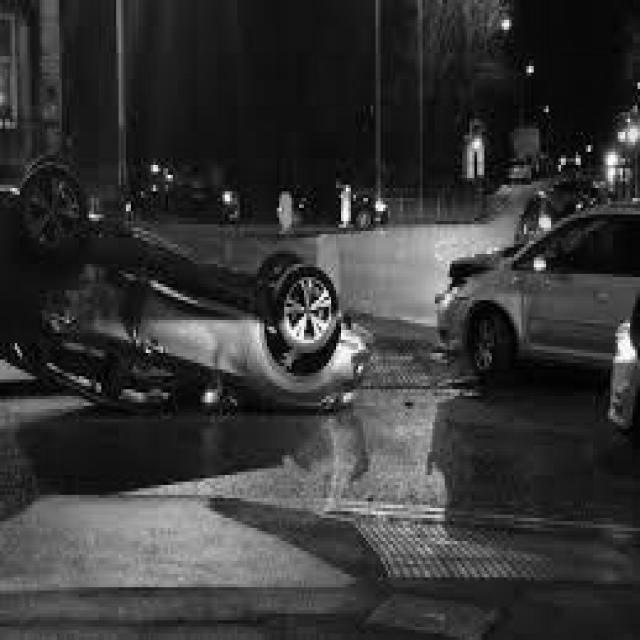accident: (0, 149, 378, 416)
vehicle: (435, 200, 639, 392), (119, 162, 245, 228), (286, 179, 394, 239)
